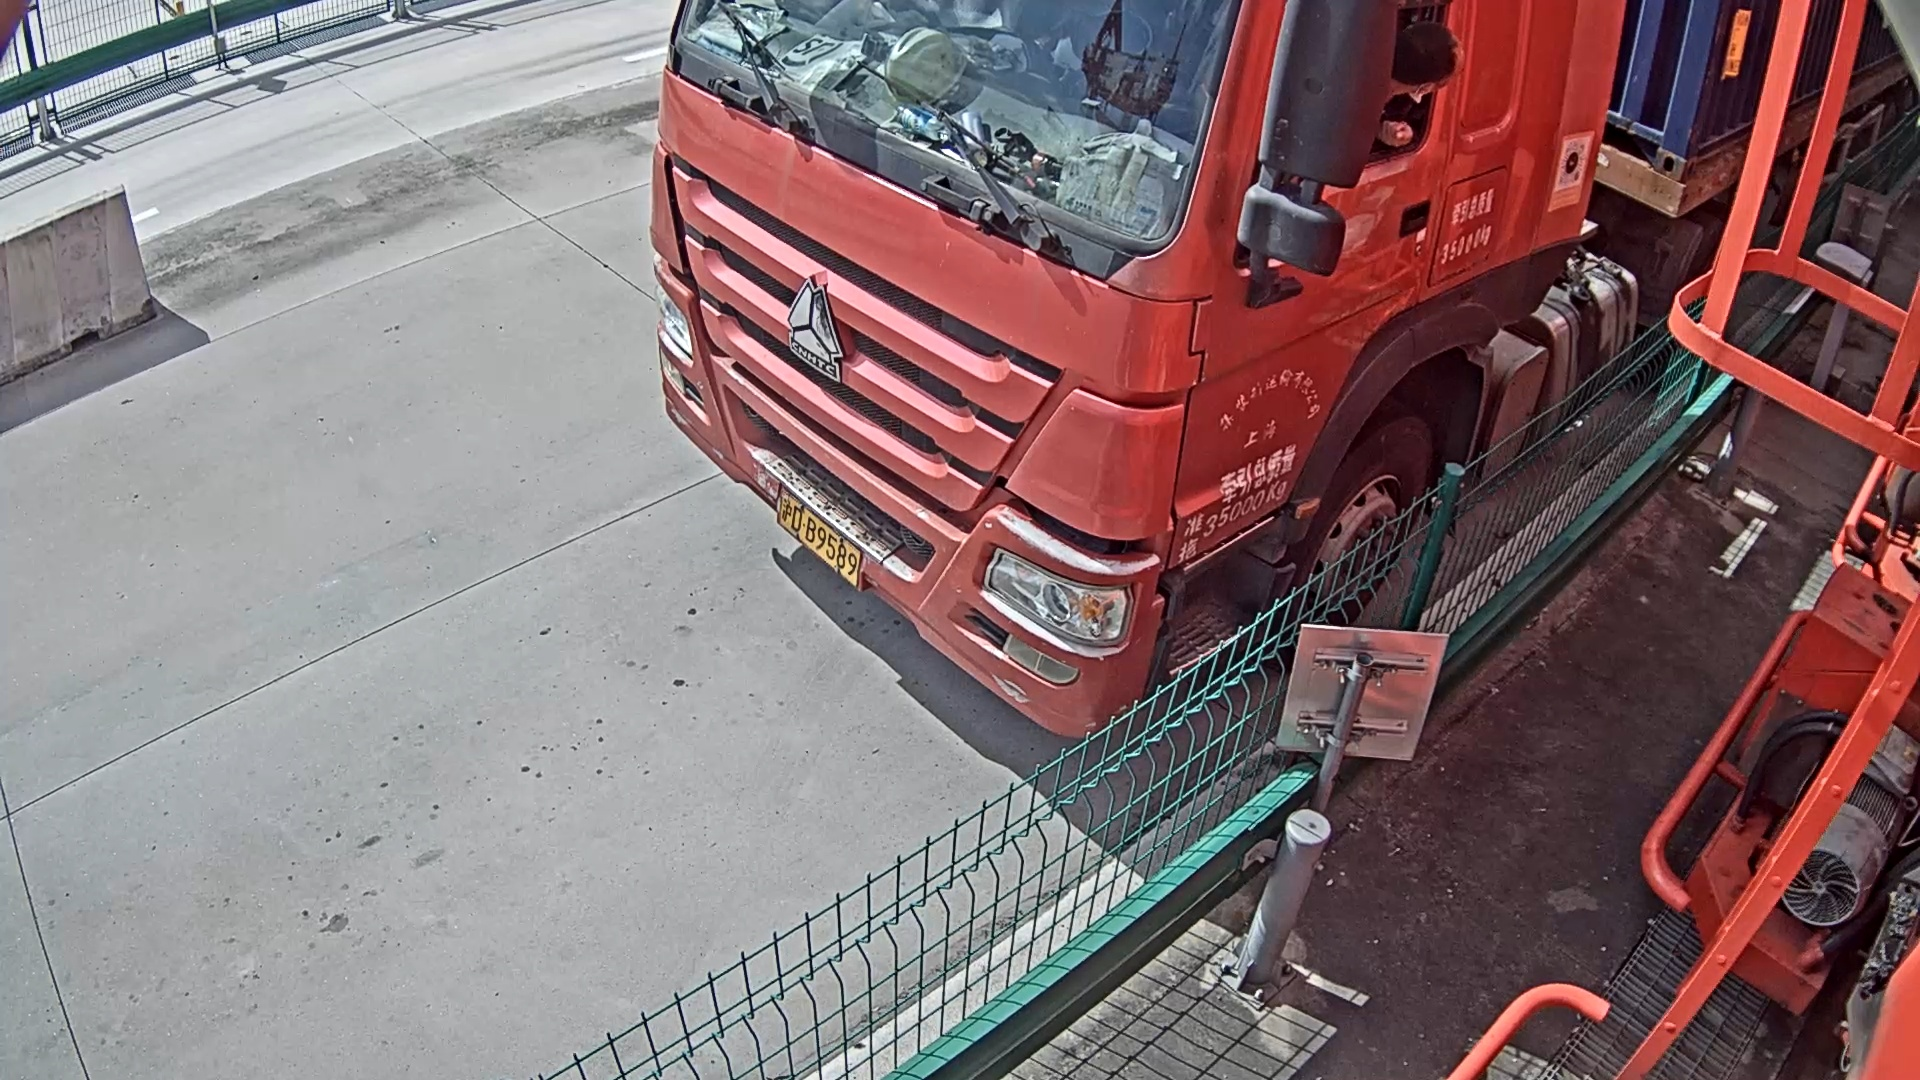head: (661, 2, 1628, 720)
plate: (776, 479, 866, 593)
